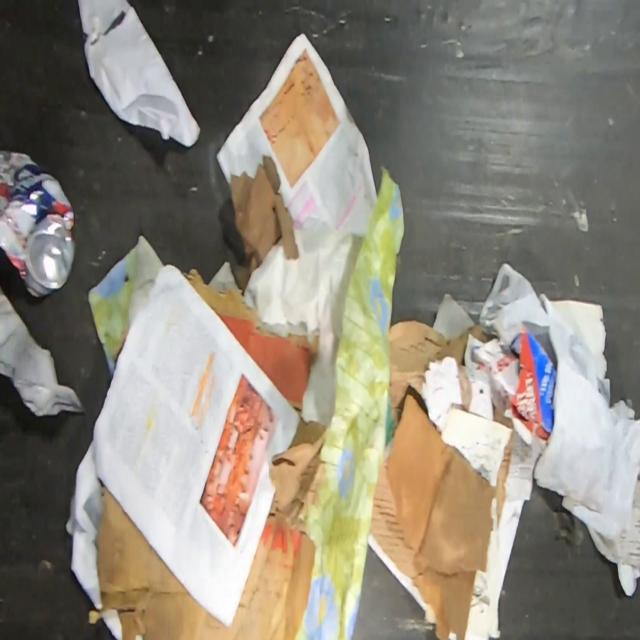cardboard: (98, 419, 328, 640), (385, 394, 516, 640), (182, 266, 319, 419), (386, 320, 498, 444), (370, 445, 418, 581)
metal: (0, 148, 78, 300)
